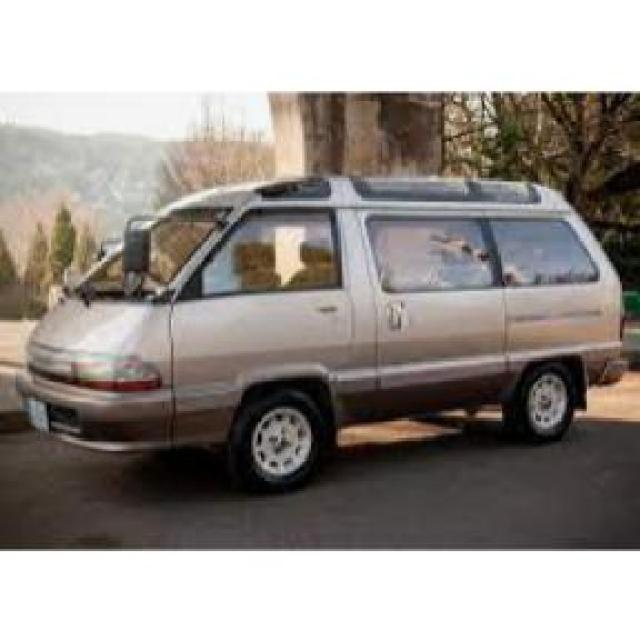Van: (16, 161, 631, 488)
